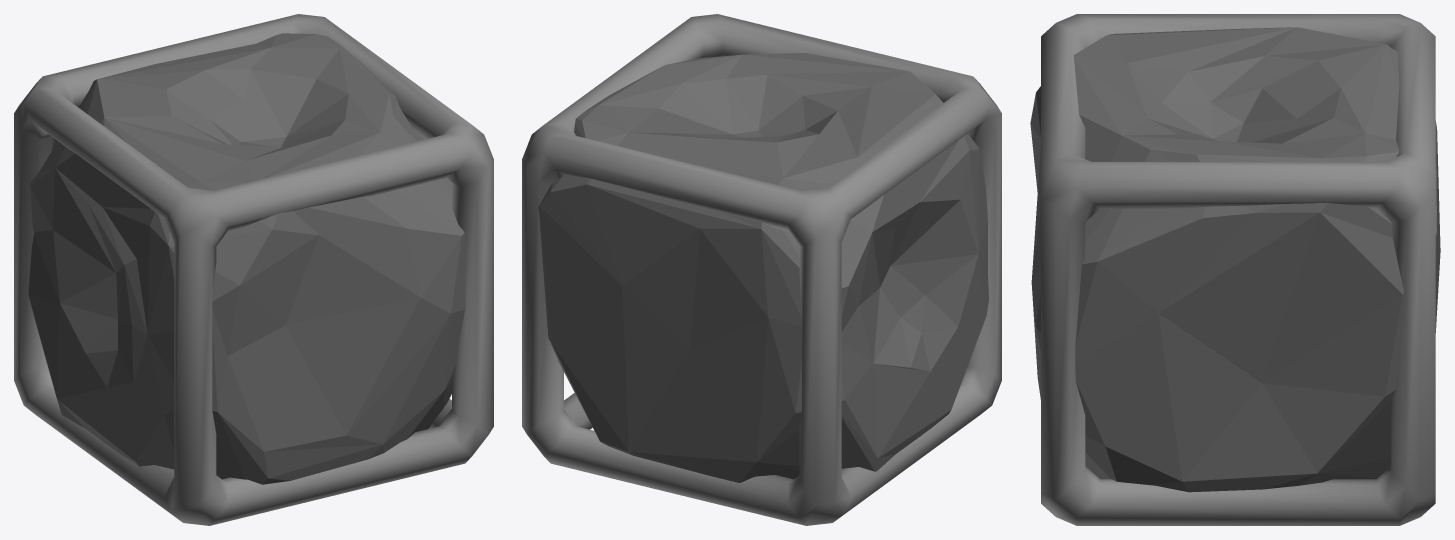
File: block_rock_2.fbx
3 views of the same model, side by side, from view 1: azimuth 30°, elevation 25°; view 2: azimuth 150°, elevation 25°; view 3: azimuth 270°, elevation 25° (orthographic). The views are drawn at different scales.
Parts seen in each view (by area): view 1: block_rock_2; view 2: block_rock_2; view 3: block_rock_2.
Part boxes in pixels (x1,y1,x2,y2): block_rock_2: (14, 14, 493, 525); block_rock_2: (522, 14, 1001, 525); block_rock_2: (1030, 14, 1440, 525).
Size of the model in its own units: 203 by 202 by 208.
